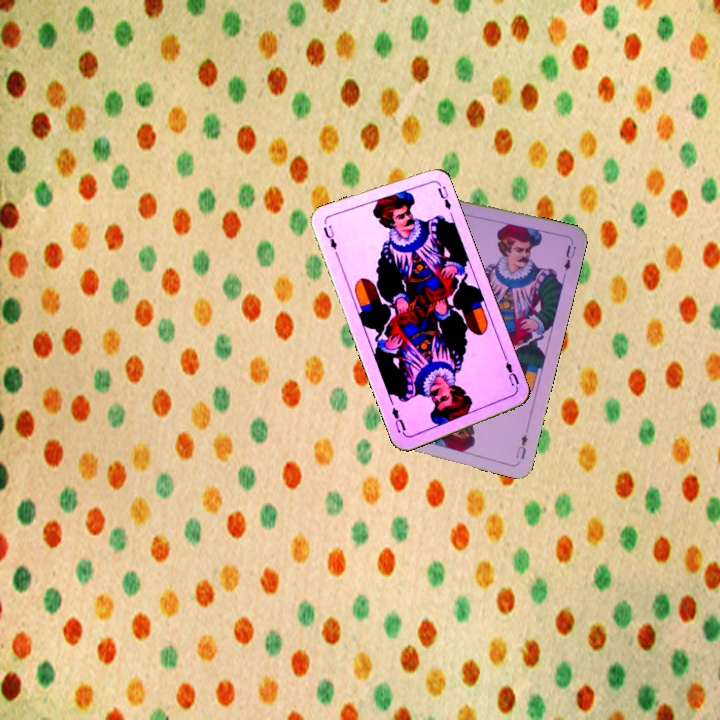EU: (501, 353, 522, 393), (319, 220, 340, 252), (512, 430, 530, 461)
